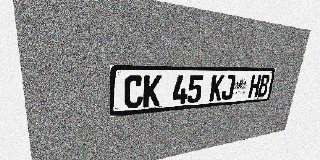4: (172, 75, 189, 105)
5: (187, 75, 203, 103)
B: (257, 74, 270, 97)
C: (124, 75, 144, 109)
H: (248, 74, 262, 98)
J: (221, 75, 236, 100)
K: (143, 75, 162, 107), (209, 75, 225, 101)
